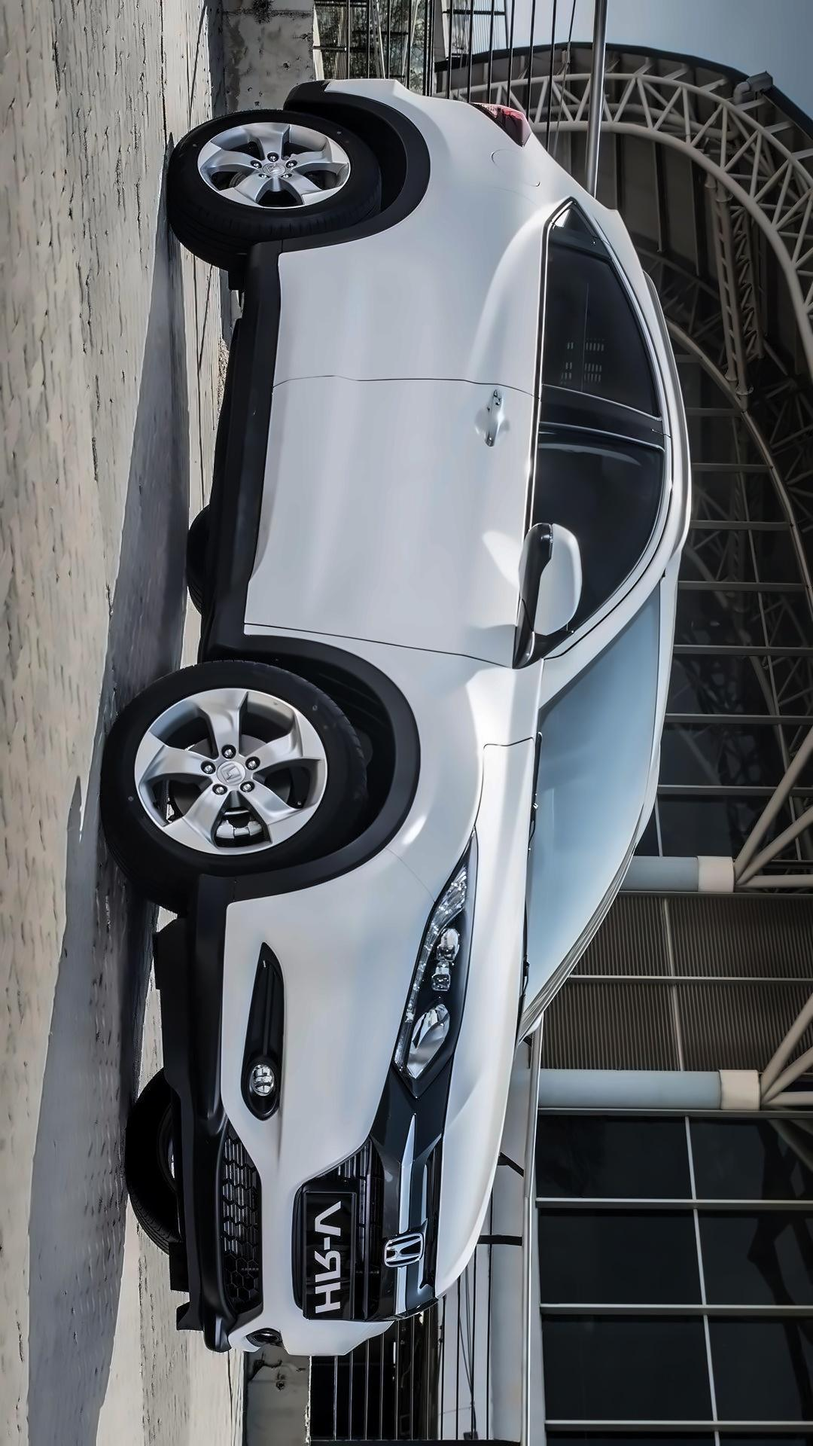Car hood: (444, 731, 551, 1287)
Driver-s door - -F-R-: (214, 354, 694, 680)
Fender - -F-R-: (188, 610, 540, 905)
Fender - -R-R-: (262, 78, 607, 263)
Front bumper: (138, 876, 437, 1367)
Headlight - -R-: (373, 836, 485, 1099)
Passenger-s door - -R-R-: (221, 204, 701, 439)
Rear bumper: (271, 50, 413, 120)
Rear light - -R-: (472, 93, 542, 151)
Side bumper - -R-: (187, 197, 306, 687)
Side mirror - -R-: (505, 510, 582, 682)
